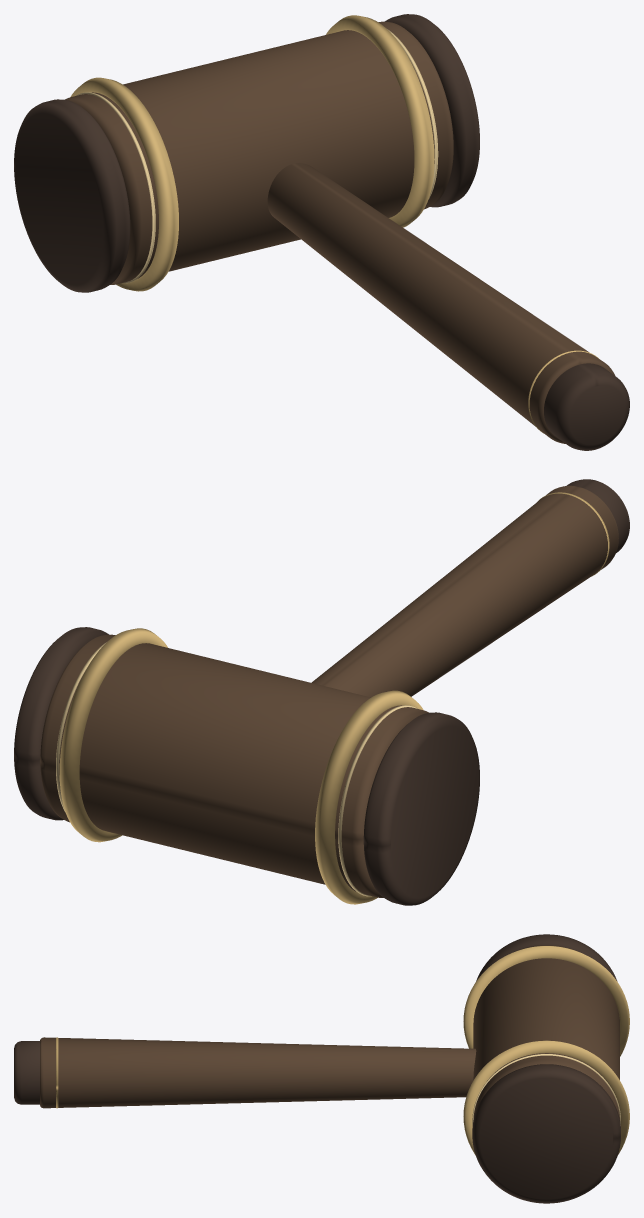
File: gavel.opt.glb
The picture shows the model from 3 angles, top to bottom: view 1: azimuth 30°, elevation 25°; view 2: azimuth 150°, elevation 25°; view 3: azimuth 270°, elevation 25°; orthographic projection. The views are drawn at different scales.
Visible parts, largest first — view 1: Gavel_Head, Gavel_Handle, Gavel_Contact_Face_Left, Gavel_Handle_End_Knob, Gavel_Contact_Face_Right, Gavel_Brass_Band_Left, Gavel_Brass_Band_Right, Gavel_Subtle_Brass_Groove_-0.54_-0.04, Gavel_Subtle_Brass_Groove_+0.54_+0.04; view 2: Gavel_Head, Gavel_Handle, Gavel_Contact_Face_Left, Gavel_Contact_Face_Right, Gavel_Brass_Band_Right, Gavel_Brass_Band_Left, Gavel_Handle_End_Knob, Gavel_Subtle_Brass_Groove_-0.54_-0.04, Gavel_Subtle_Brass_Groove_+0.54_+0.04; view 3: Gavel_Handle, Gavel_Contact_Face_Right, Gavel_Head, Gavel_Brass_Band_Left, Gavel_Brass_Band_Right, Gavel_Handle_End_Knob, Gavel_Contact_Face_Left, Gavel_Subtle_Brass_Groove_+0.54_+0.04.
Boxes of the visible parts, box(x1,y1,x2,y2) form: Gavel_Head: box(65, 21, 453, 284); Gavel_Handle: box(267, 163, 615, 443); Gavel_Contact_Face_Left: box(14, 99, 130, 292); Gavel_Handle_End_Knob: box(544, 363, 629, 450); Gavel_Contact_Face_Right: box(384, 14, 479, 207); Gavel_Brass_Band_Left: box(70, 77, 178, 291); Gavel_Brass_Band_Right: box(326, 15, 434, 227); Gavel_Subtle_Brass_Groove_-0.54_-0.04: box(76, 92, 155, 283); Gavel_Subtle_Brass_Groove_+0.54_+0.04: box(386, 28, 438, 199); Gavel_Head: box(40, 634, 428, 897); Gavel_Handle: box(311, 485, 618, 697); Gavel_Contact_Face_Left: box(363, 712, 479, 905); Gavel_Contact_Face_Right: box(14, 627, 109, 820); Gavel_Brass_Band_Right: box(59, 628, 167, 842); Gavel_Brass_Band_Left: box(315, 690, 423, 904); Gavel_Handle_End_Knob: box(566, 479, 629, 552); Gavel_Subtle_Brass_Groove_-0.54_-0.04: box(338, 705, 417, 896); Gavel_Subtle_Brass_Groove_+0.54_+0.04: box(56, 642, 106, 811); Gavel_Handle: box(40, 1037, 476, 1108); Gavel_Contact_Face_Right: box(472, 1064, 620, 1203); Gavel_Head: box(473, 945, 619, 1120); Gavel_Brass_Band_Left: box(463, 946, 629, 1056); Gavel_Brass_Band_Right: box(463, 1040, 629, 1154); Gavel_Handle_End_Knob: box(14, 1041, 39, 1104); Gavel_Contact_Face_Left: box(476, 934, 617, 981); Gavel_Subtle_Brass_Groove_+0.54_+0.04: box(472, 1054, 620, 1125).
Bounding box in the file's own units: 1.53 × 0.772 × 2.86.
